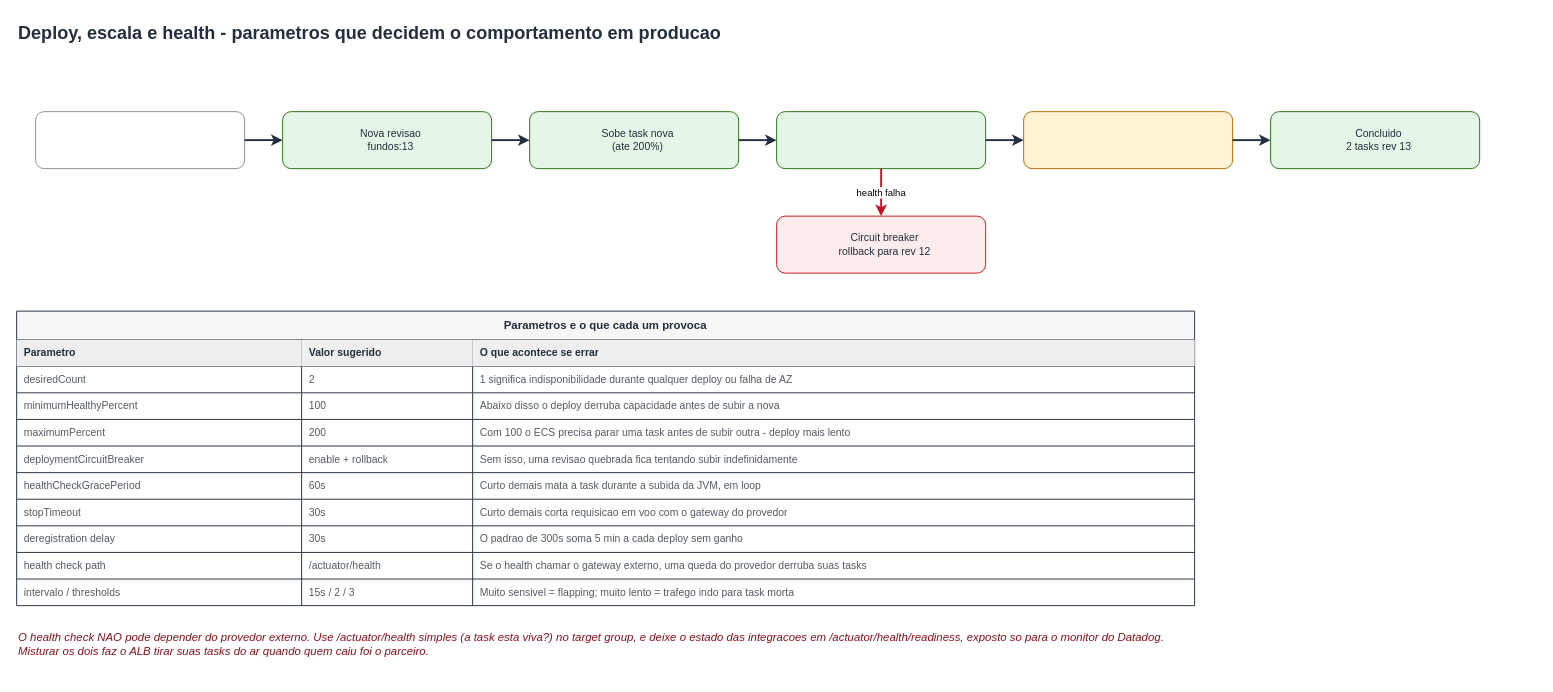
Some shapes in this 1553 by 692 pixel diagram are drawn without their labels. The shapes that lost their labels are listed below. From the top down, each one's centre as x and y in pixels, then its label:
point (140, 140): Estado atual 2 tasks rev 12
point (881, 140): Health check do target group
point (1128, 140): Drena a antiga dereg. delay 30s
